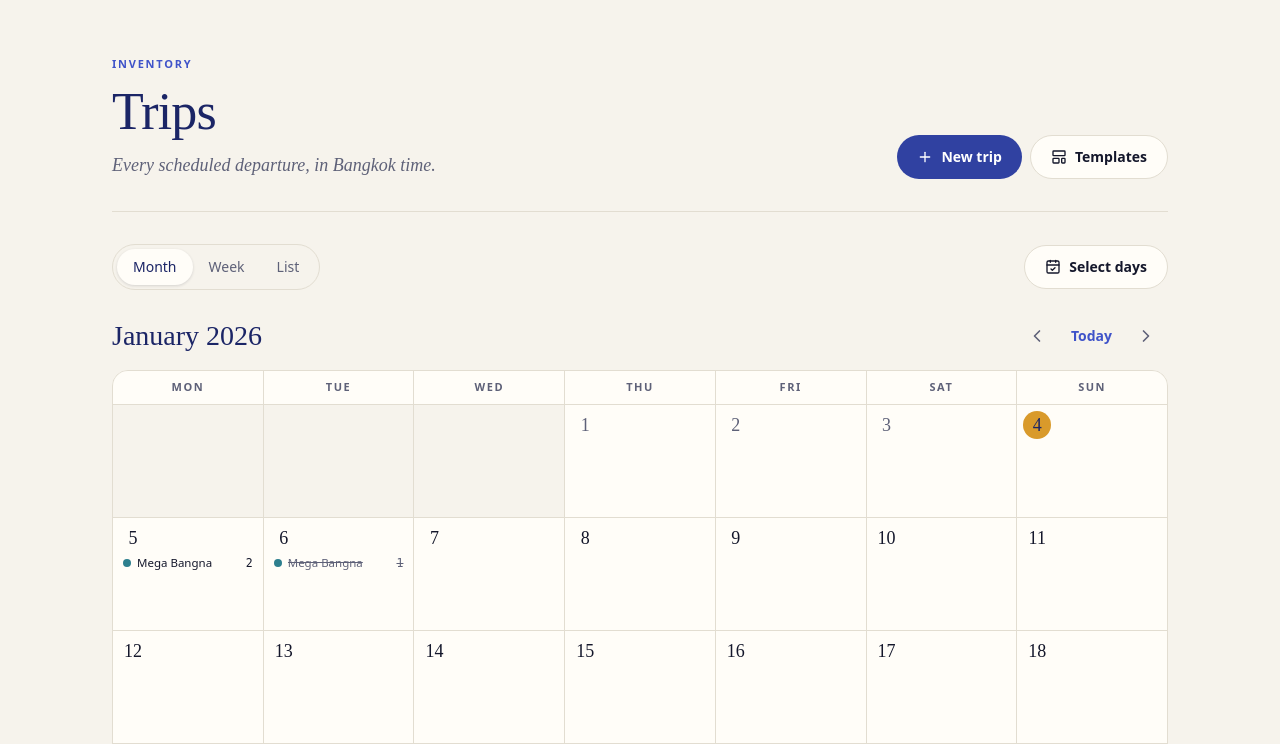
Test case: AdminTripsPage calendar › shows a week of departures, the cancelled one struck through
Step 1. Click the radio button labelled "Week" → point(226, 267), box x1=208 y1=257 x2=244 y2=276
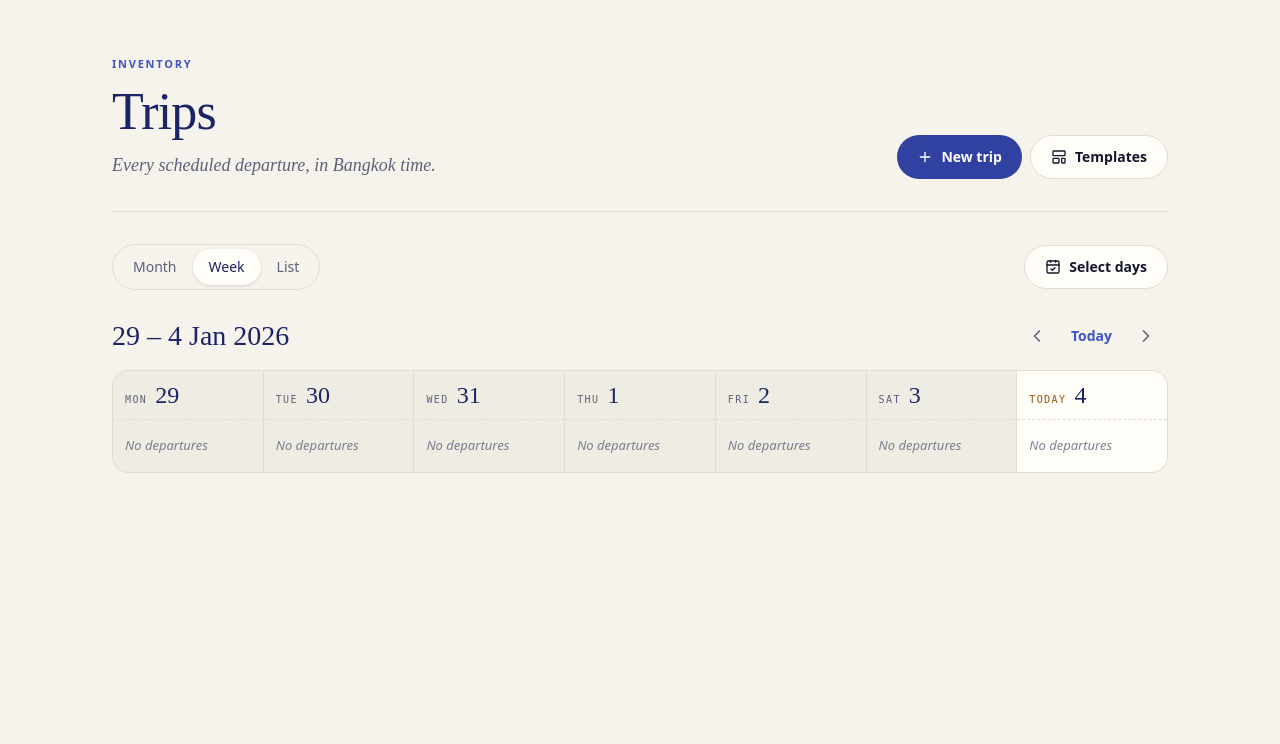
Now the heading "29 – 4 Jan 2026" is shown, box x1=112 y1=317 x2=289 y2=355
Step 2. Click the button named "Next week" → point(1146, 336), box x1=1124 y1=314 x2=1168 y2=358
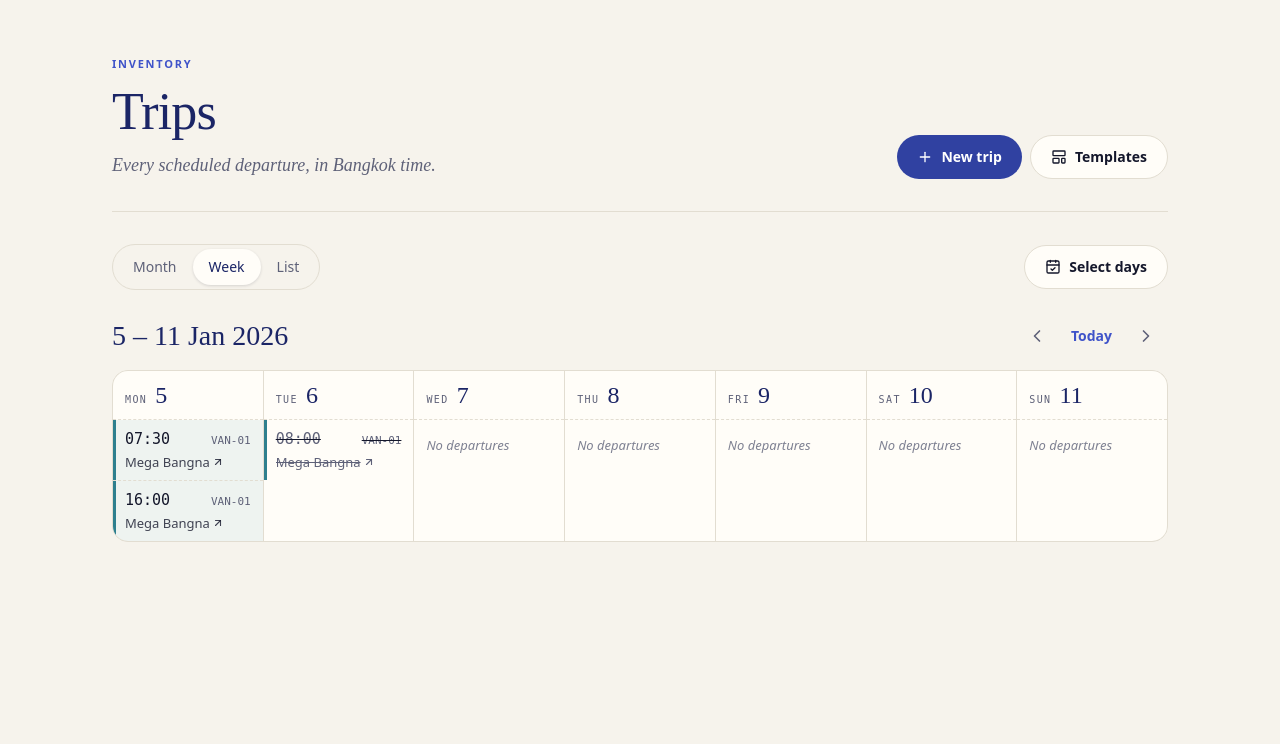
Now the text "08:00" is shown, box x1=276 y1=428 x2=321 y2=451
